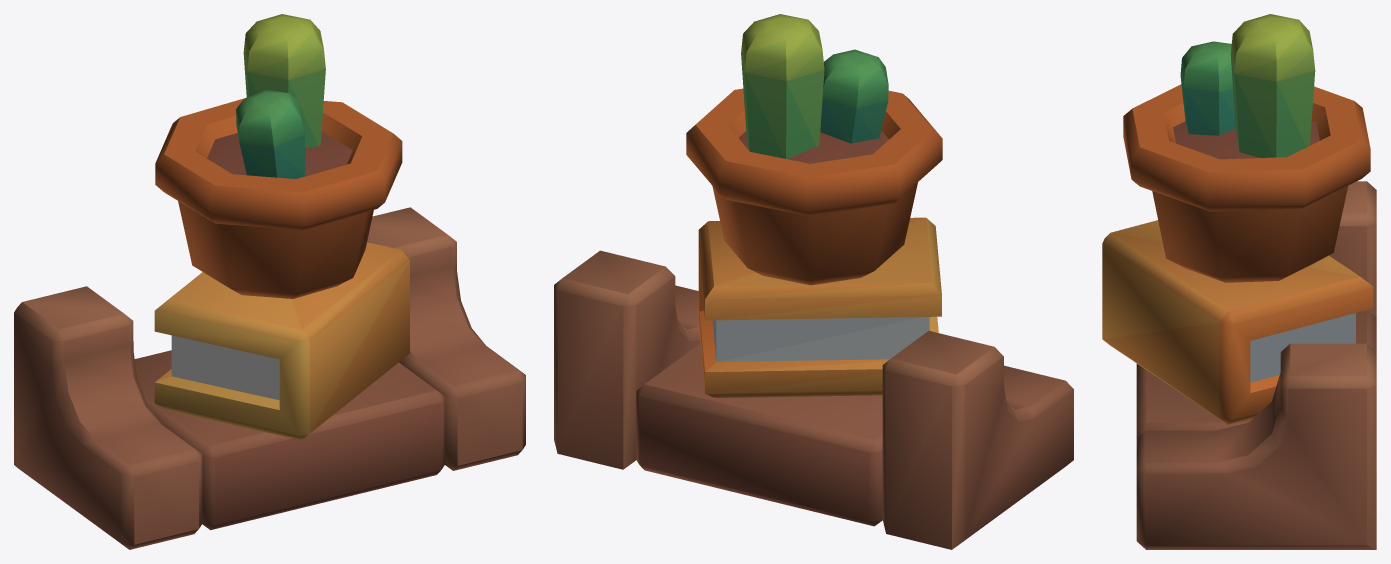
File: kk_furniture_shelf_B_small_decorated.glb
3 renders of one model, left to right at view 1: azimuth 30°, elevation 25°; view 2: azimuth 150°, elevation 25°; view 3: azimuth 270°, elevation 25°, orthographic. The views are drawn at different scales.
Visible parts, largest first — view 1: kk_furniture_shelf_B_small_decorated; view 2: kk_furniture_shelf_B_small_decorated; view 3: kk_furniture_shelf_B_small_decorated.
Part boxes in pixels (bbox=[...]): kk_furniture_shelf_B_small_decorated: bbox=[14, 14, 525, 549]; kk_furniture_shelf_B_small_decorated: bbox=[554, 14, 1073, 549]; kk_furniture_shelf_B_small_decorated: bbox=[1102, 14, 1376, 549].
Size of the model in its own units: 1 by 1.01 by 0.5713.
